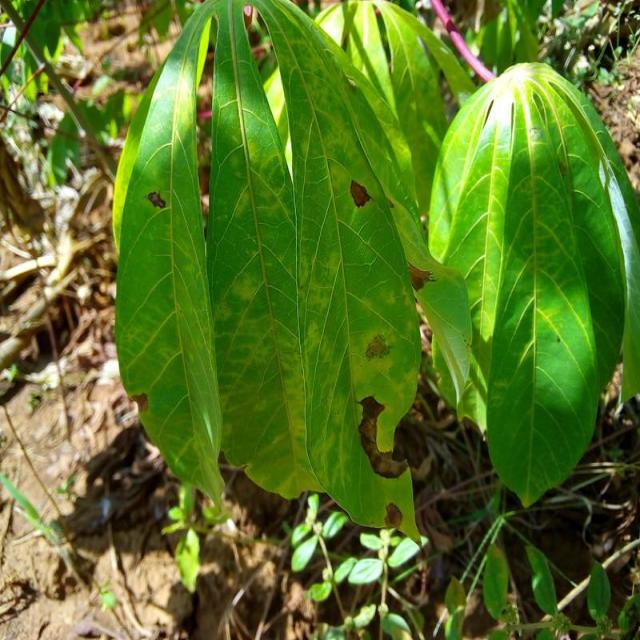cassava leaf: (110, 0, 432, 545), (425, 60, 638, 508), (110, 0, 226, 514)
